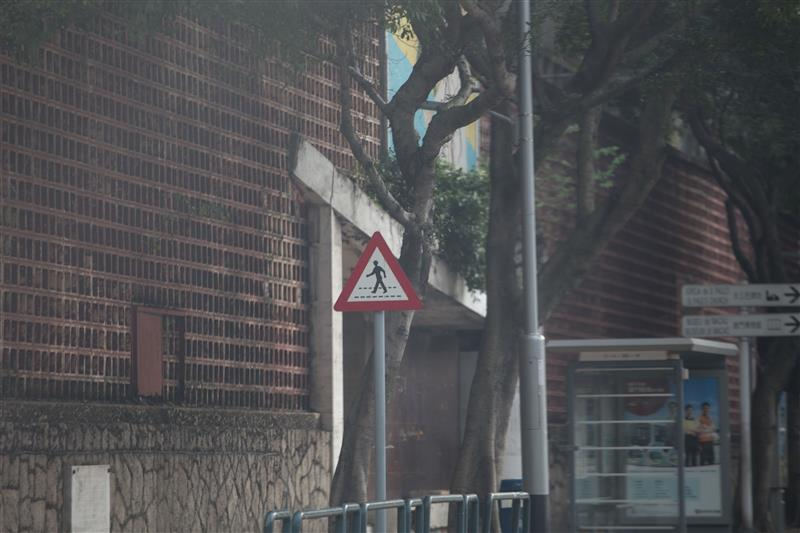pedestrianCrossingR: (330, 228, 425, 314)
